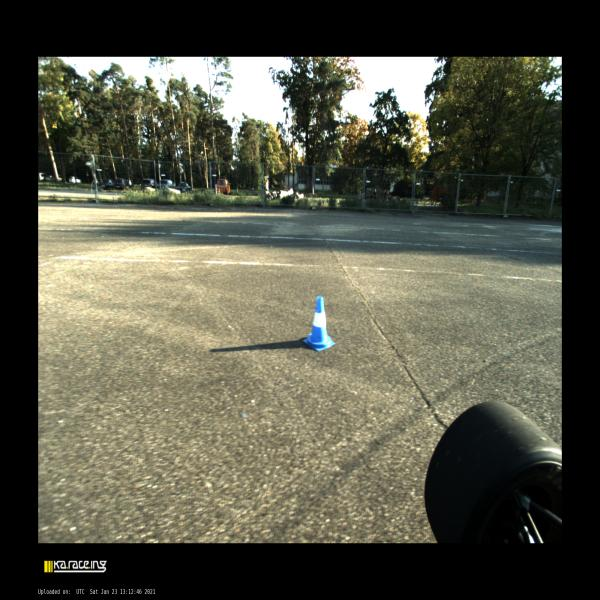blue_cone: (302, 295, 336, 352)
